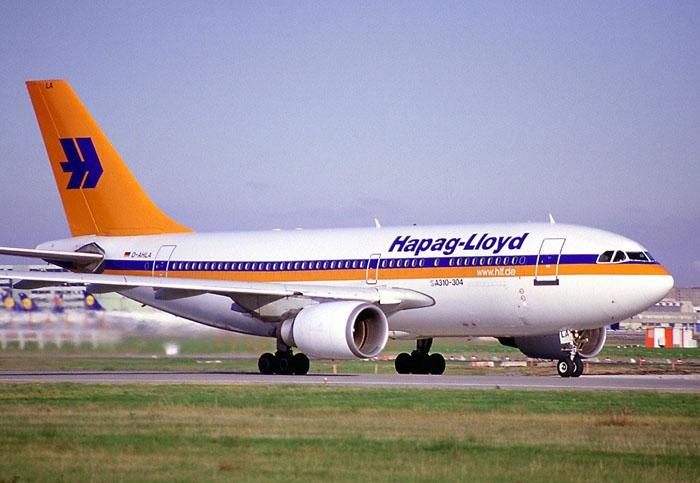airplane: (2, 76, 674, 380)
